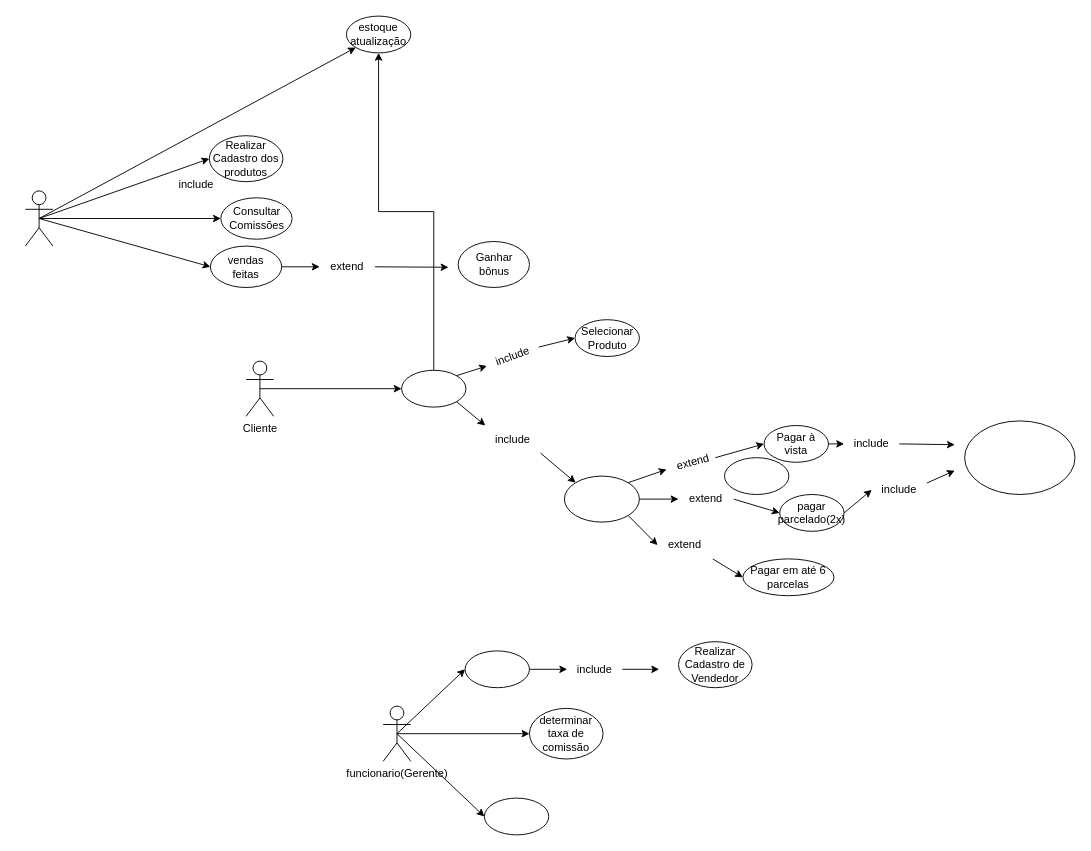
Image size: 1091x851. Some labels were removed from this diagram. The shapes that lost their labels are listed below. From the top down, each one's centre as x and y in pixels, then its label:
At pixel 38 218: "Vendedor".
At pixel 433 388: "Realizar Compra".
At pixel 756 475: "Solicitar desconto".
At pixel 1019 457: "desconto usar".
At pixel 601 498: "Escolher Condição de Pagamento".
At pixel 496 669: "Gerenciar Vendedores".
At pixel 516 816: "Consultar Vendas".
